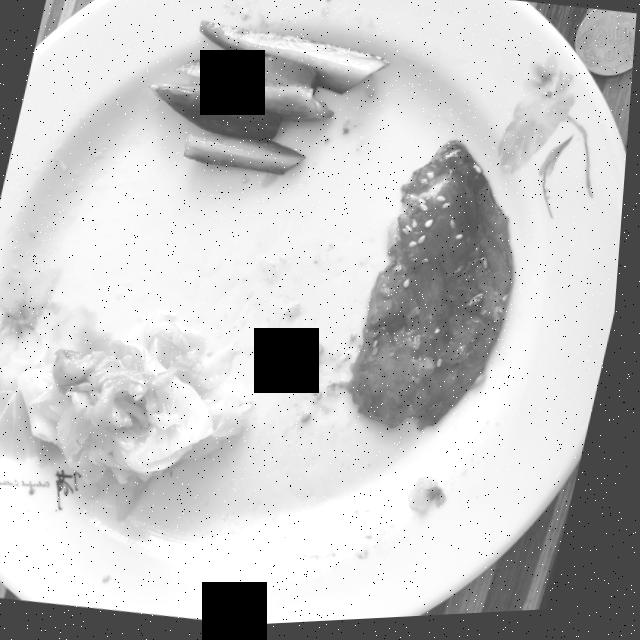Kabayaki sea bream fillet: (355, 146, 518, 434)
cabbage: (24, 314, 257, 522)
coin: (575, 16, 637, 83)
cucumber: (151, 23, 389, 176)
